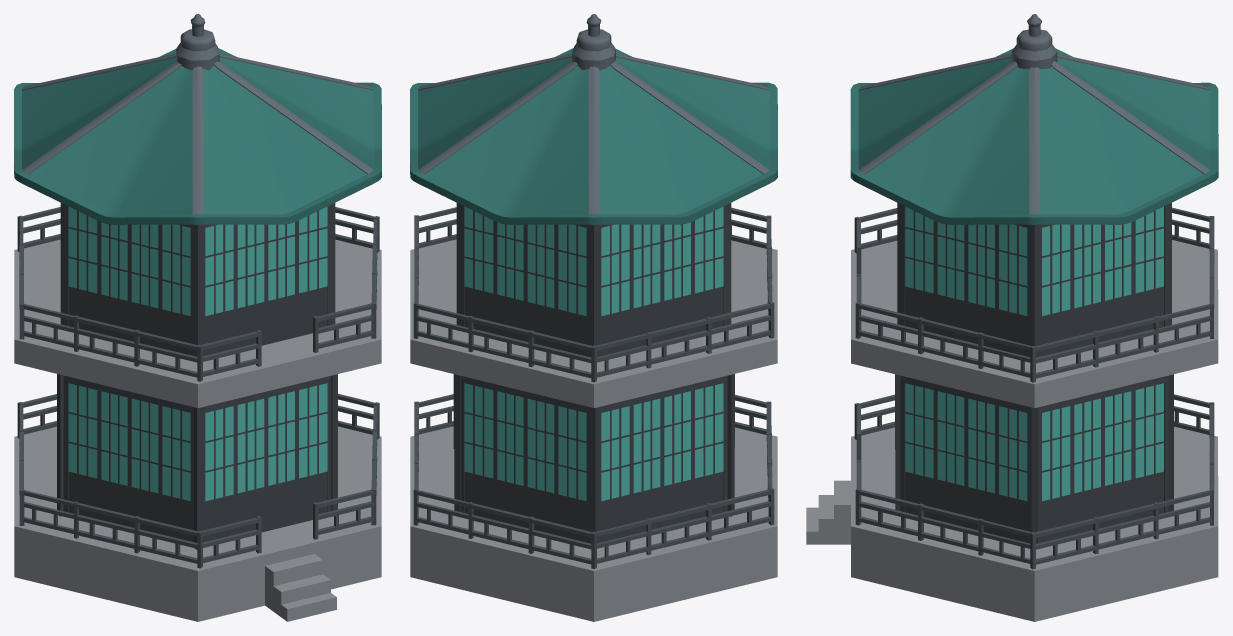
Rendered from Building_6.fbx.
3 renders of one model, left to right at view 1: azimuth 30°, elevation 25°; view 2: azimuth 150°, elevation 25°; view 3: azimuth 270°, elevation 25°, orthographic.
Parts seen in each view (by area): view 1: Building_6; view 2: Building_6; view 3: Building_6.
Boxes of the visible parts, left/top/right/bottom form: Building_6: left=14, top=14, right=381, bottom=621; Building_6: left=410, top=14, right=777, bottom=621; Building_6: left=806, top=14, right=1218, bottom=621.
Size of the model in its own units: 397 by 535 by 386.
